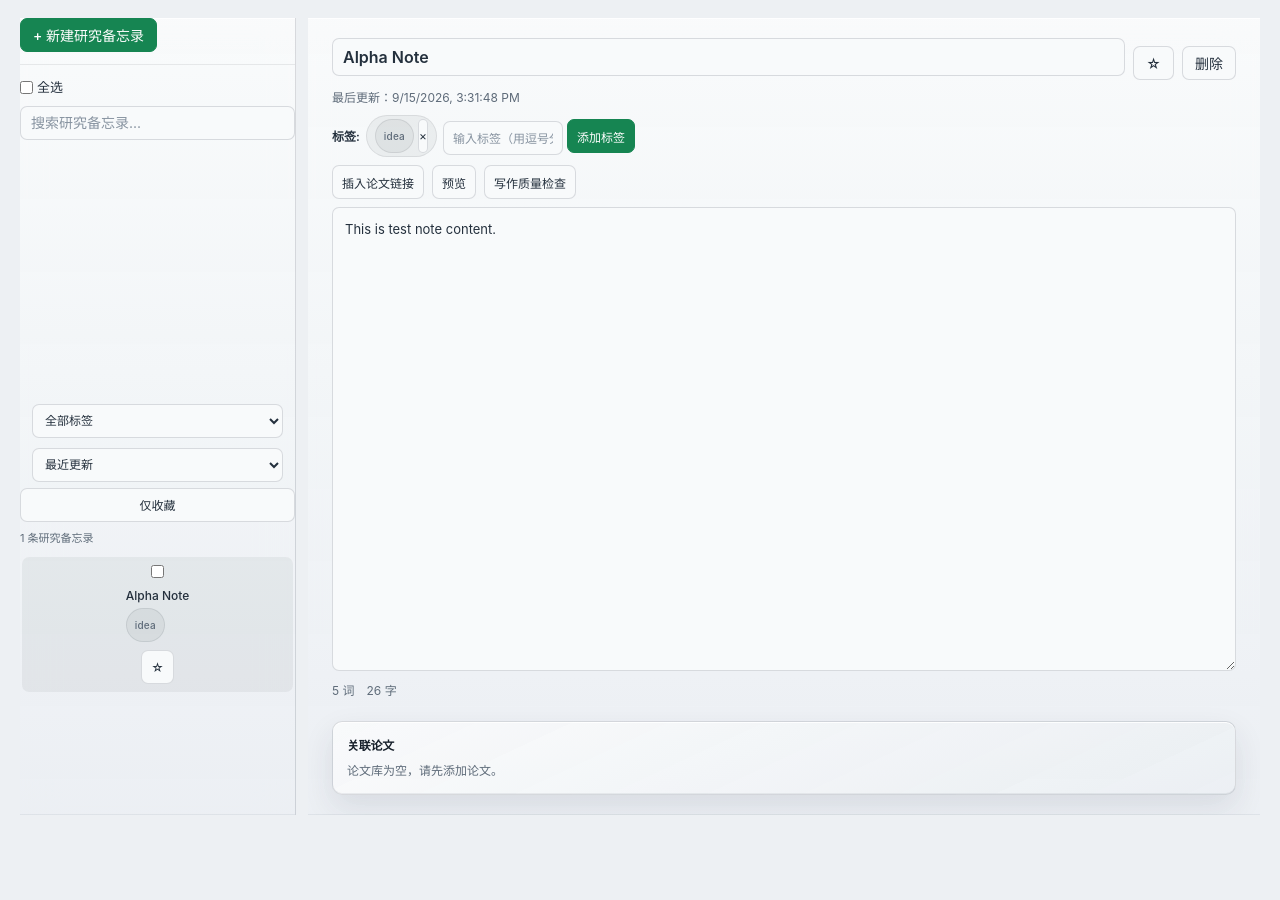
Scenario: NotesPage › should clear the notes tag filter from the empty state
The width and height of the screenshot is (1280, 900).
Select "idea" in the dropdown named "按标签过滤": [158, 421] box 32,404 -> 283,438
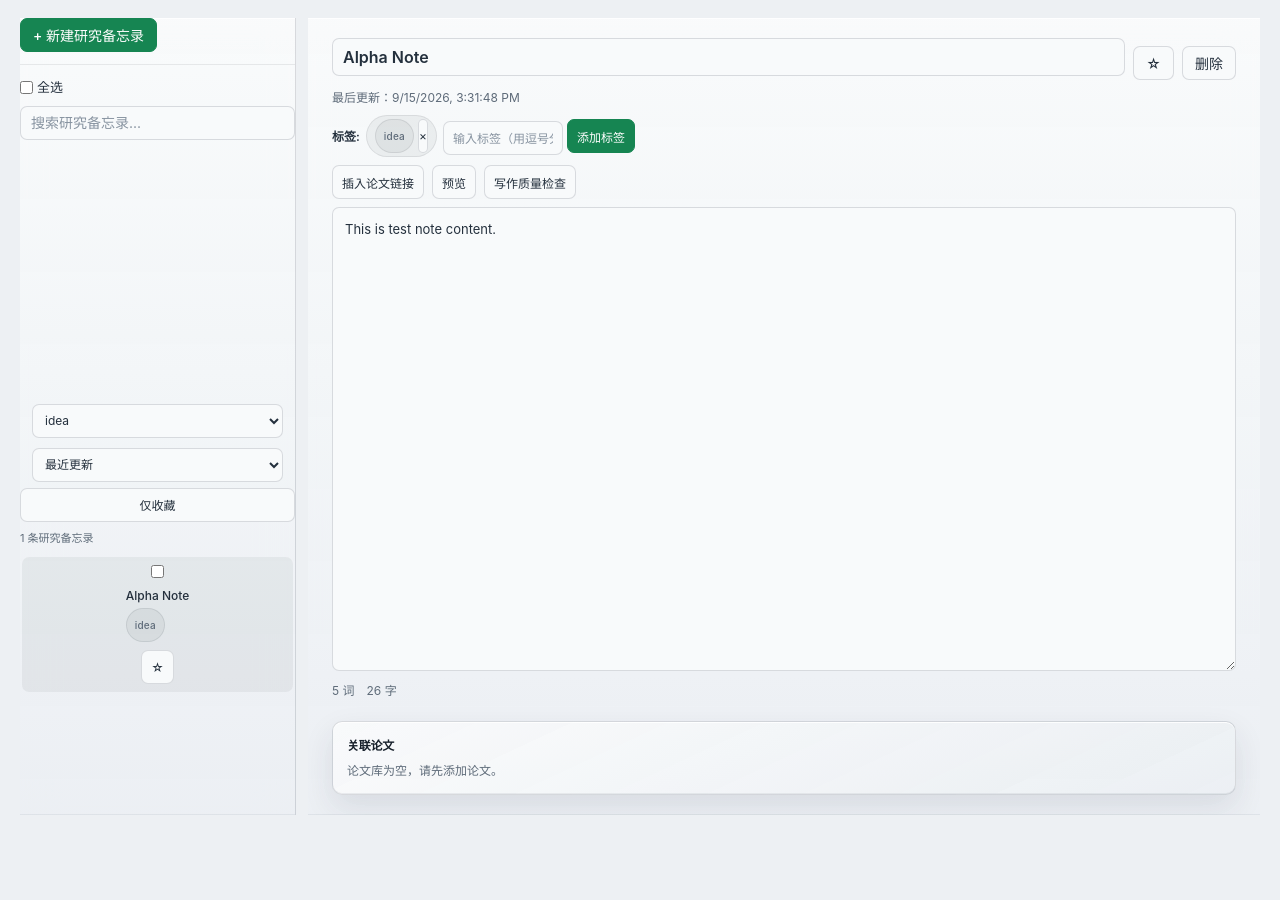
In the field with placeholder "搜索研究备忘录...": [158, 123] box 20,106 -> 295,140, type "ZZZ"
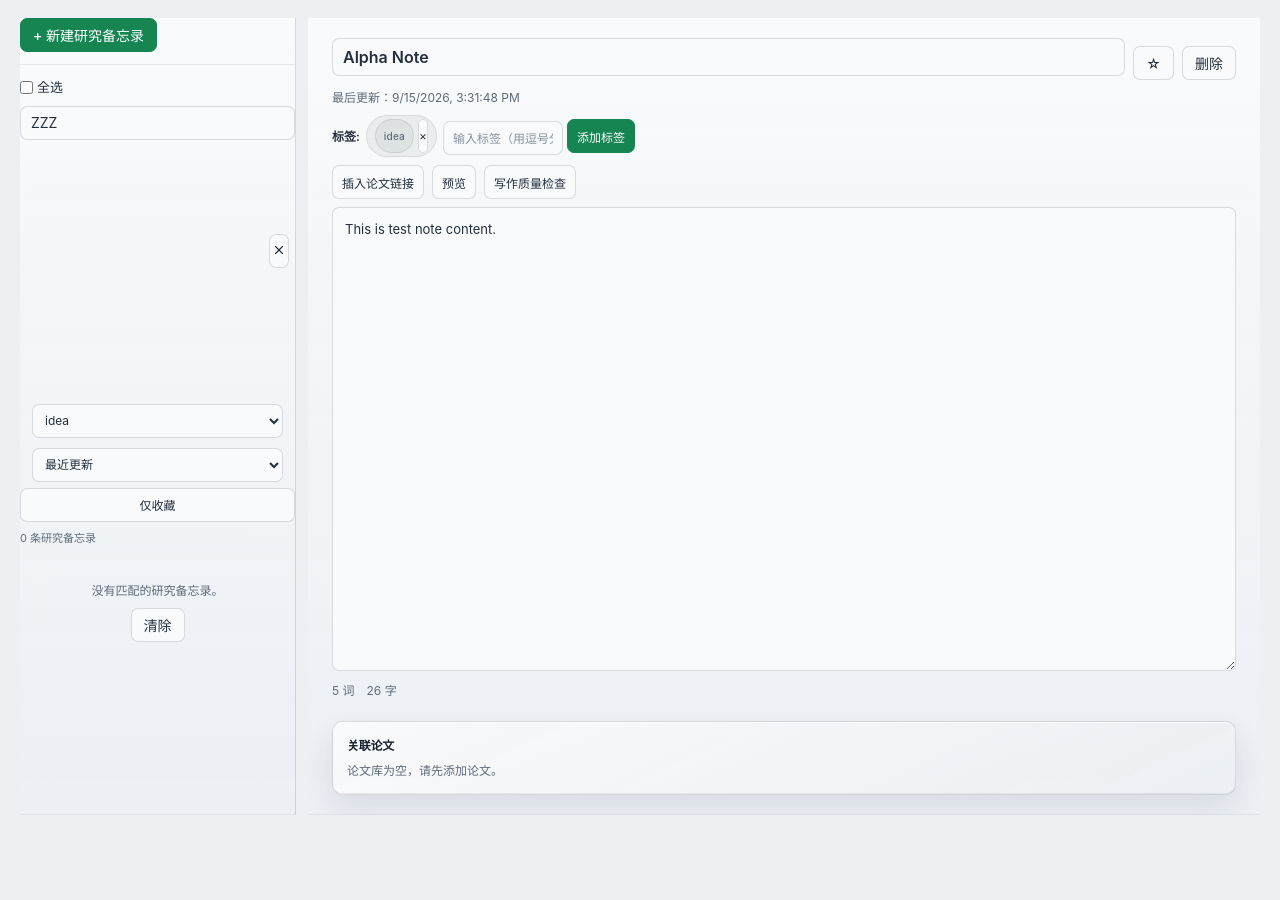
Expected: the text "没有匹配的研究备忘录。" is shown, 92,583 -> 224,598
Click the button "清除": [158, 625] box 130,608 -> 184,642
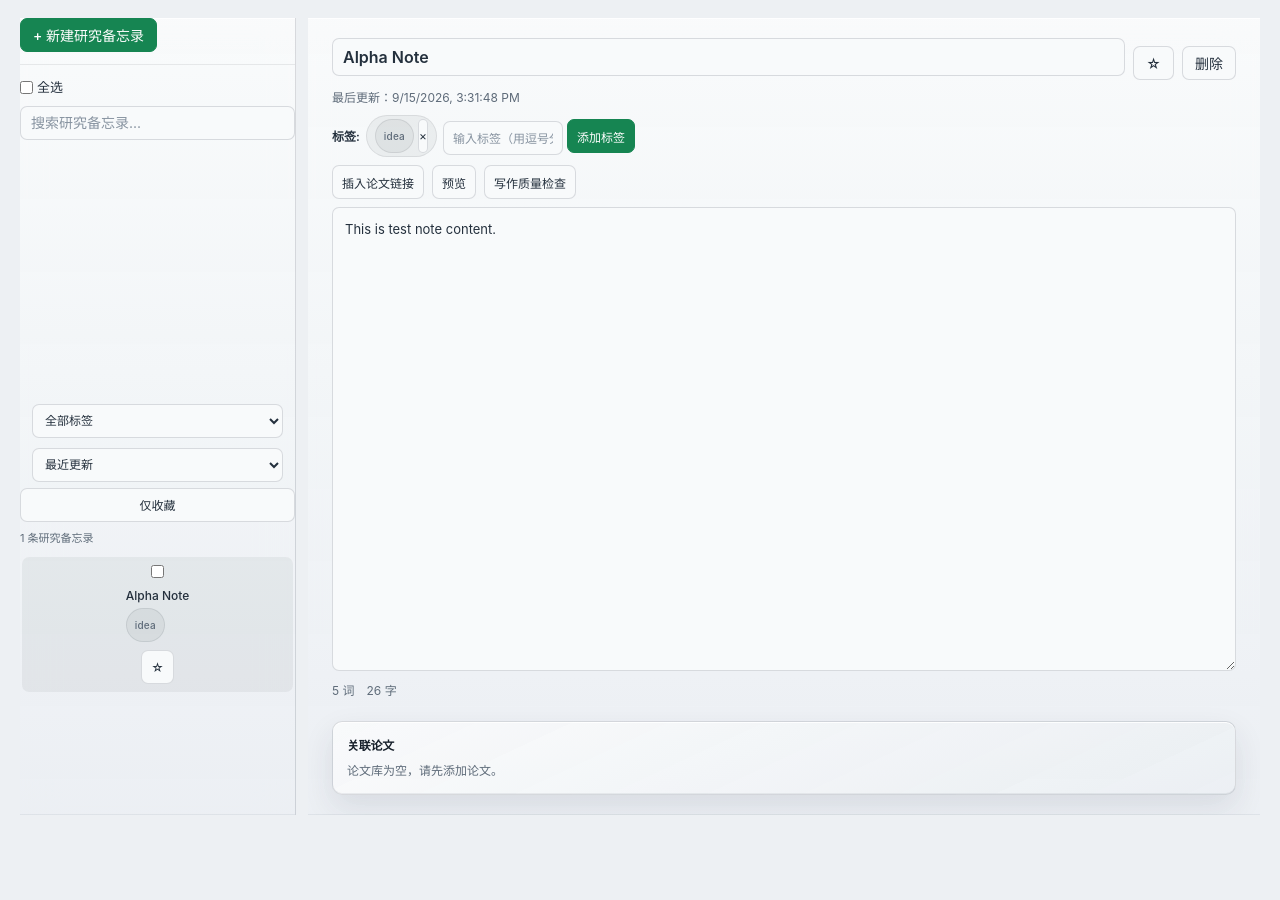
Expected: the field with placeholder "搜索研究备忘录..." is empty, 20,106 -> 295,140
Expected: the text "Alpha Note" is shown, 126,586 -> 189,605
